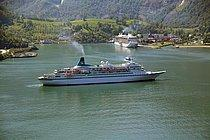Ship: (37, 57, 170, 91), (114, 32, 141, 50)
